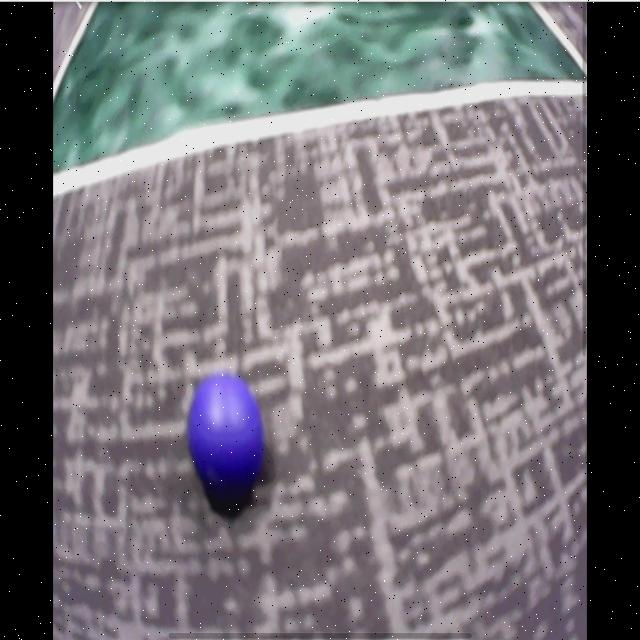ball: (190, 372, 263, 492)
